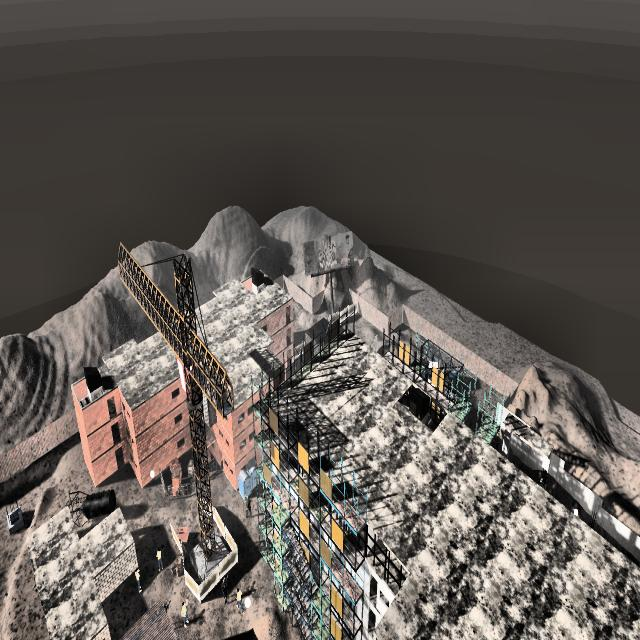bad: (240, 489, 254, 523), (220, 571, 231, 611), (164, 591, 170, 618)
good: (132, 558, 144, 601), (153, 543, 165, 576), (234, 581, 245, 616), (180, 594, 190, 632)
